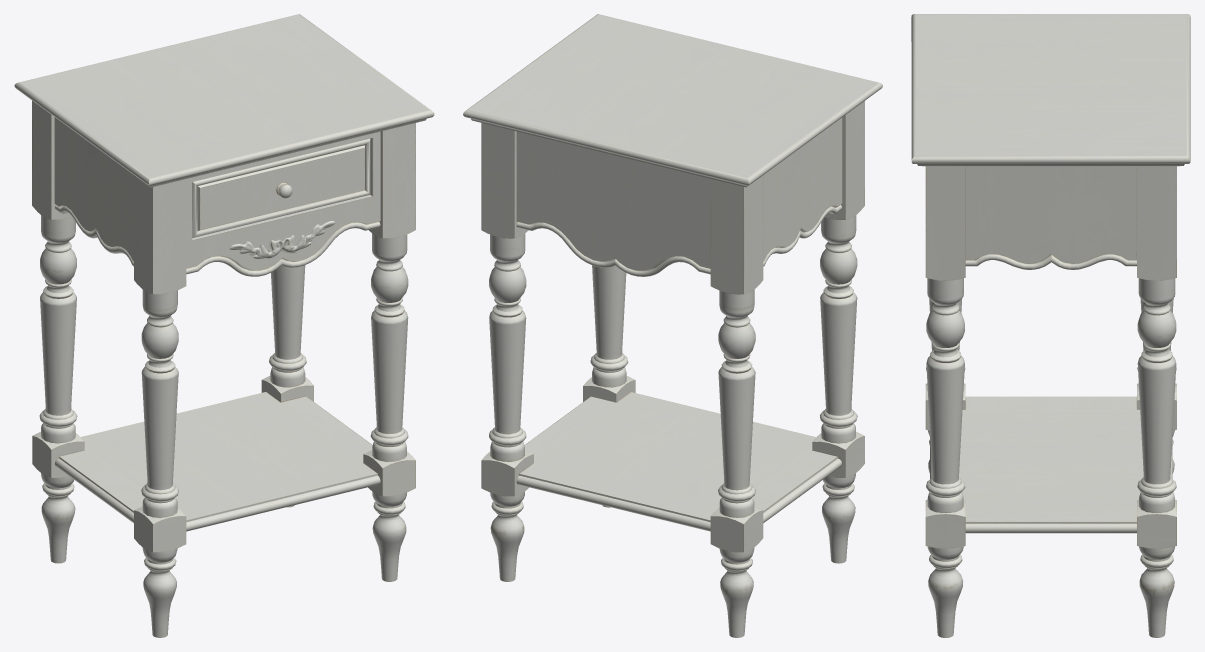
The model's file is example170.glb.
3 views of the same model, side by side, from view 1: azimuth 30°, elevation 25°; view 2: azimuth 150°, elevation 25°; view 3: azimuth 270°, elevation 25° (orthographic). The views are drawn at different scales.
Parts seen in each view (by area): view 1: Buffer Layer (×2); view 2: Buffer Layer; view 3: Buffer Layer.
Boxes of the visible parts, left/top/right/bottom form: Buffer Layer (×2): left=14, top=14, right=434, bottom=637; Buffer Layer: left=463, top=14, right=882, bottom=637; Buffer Layer: left=911, top=14, right=1190, bottom=637.
Size of the model in its own units: 0.55 by 0.8703 by 0.4476.
Materials: 2 (1 with a texture image).
